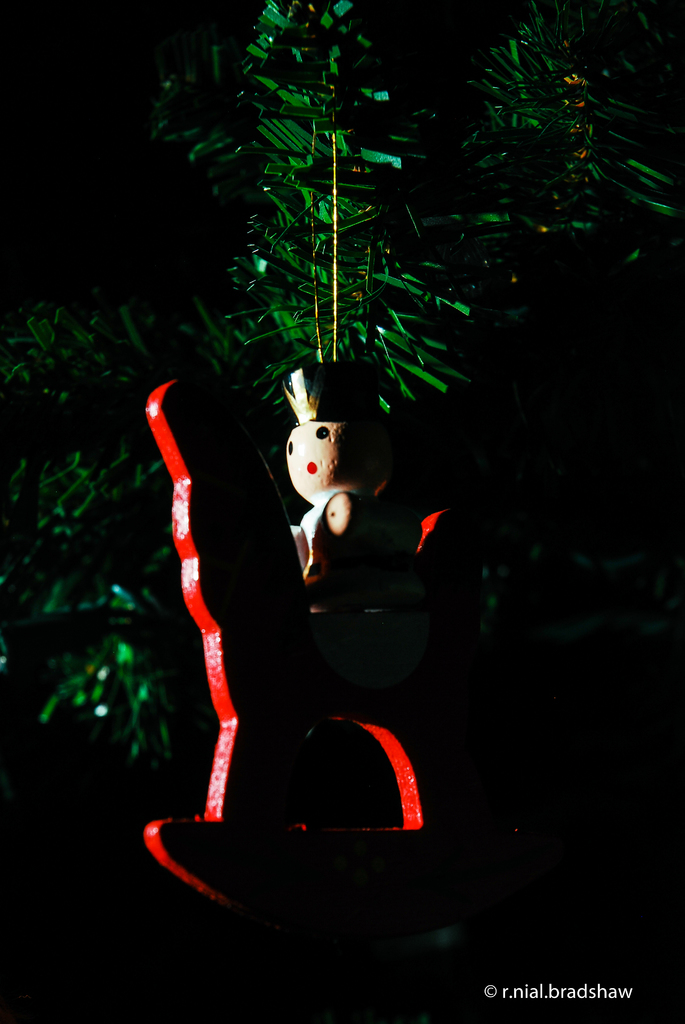Tree: (0, 0, 670, 739)
